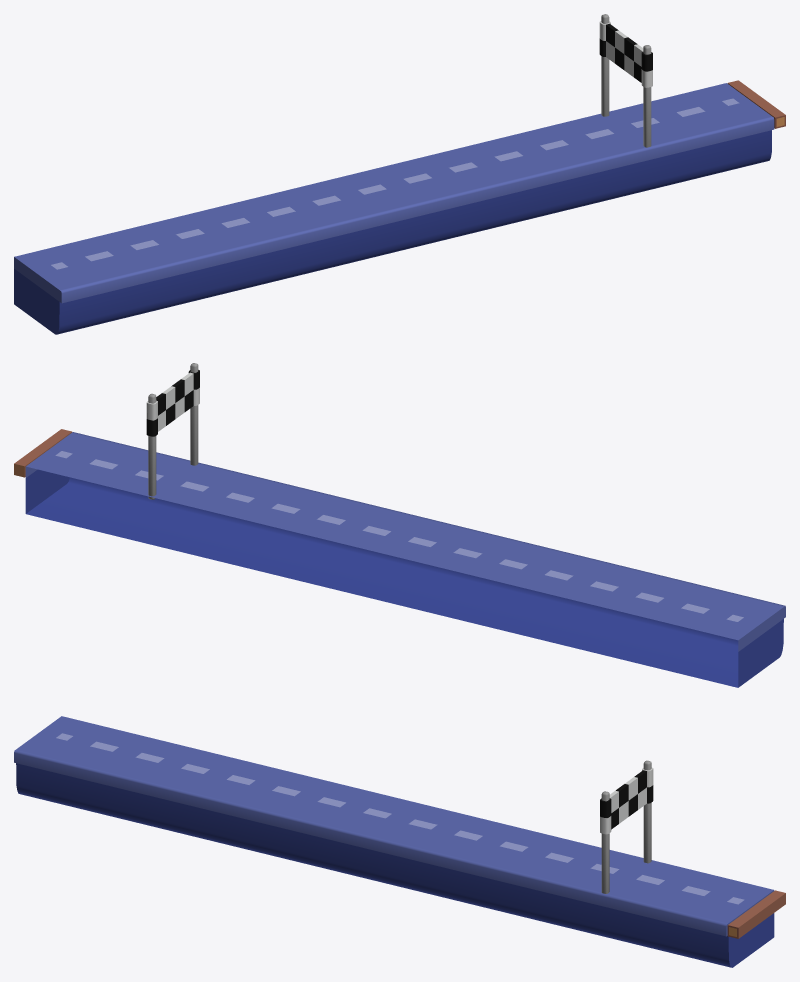
File: Road.fbx
3 views of the same model, one above another, from view 1: azimuth 30°, elevation 25°; view 2: azimuth 150°, elevation 25°; view 3: azimuth 330°, elevation 25° (orthographic).
Parts seen in each view (by area): view 1: Road_platform, finish, Road_Block_Wood.001; view 2: Road_platform, finish, Road_Block_Wood.001; view 3: Road_platform, finish, Road_Block_Wood.001.
Part boxes in pixels (<box>): Road_platform: <box>14,83,774,334</box>; finish: <box>599,14,652,147</box>; Road_Block_Wood.001: <box>727,80,785,128</box>; Road_platform: <box>25,432,785,687</box>; finish: <box>146,363,199,499</box>; Road_Block_Wood.001: <box>14,429,72,477</box>; Road_platform: <box>14,716,774,967</box>; finish: <box>600,760,653,893</box>; Road_Block_Wood.001: <box>727,890,785,938</box>.
Bounding box in the file's own units: 76.94 × 14.99 × 8.79.
